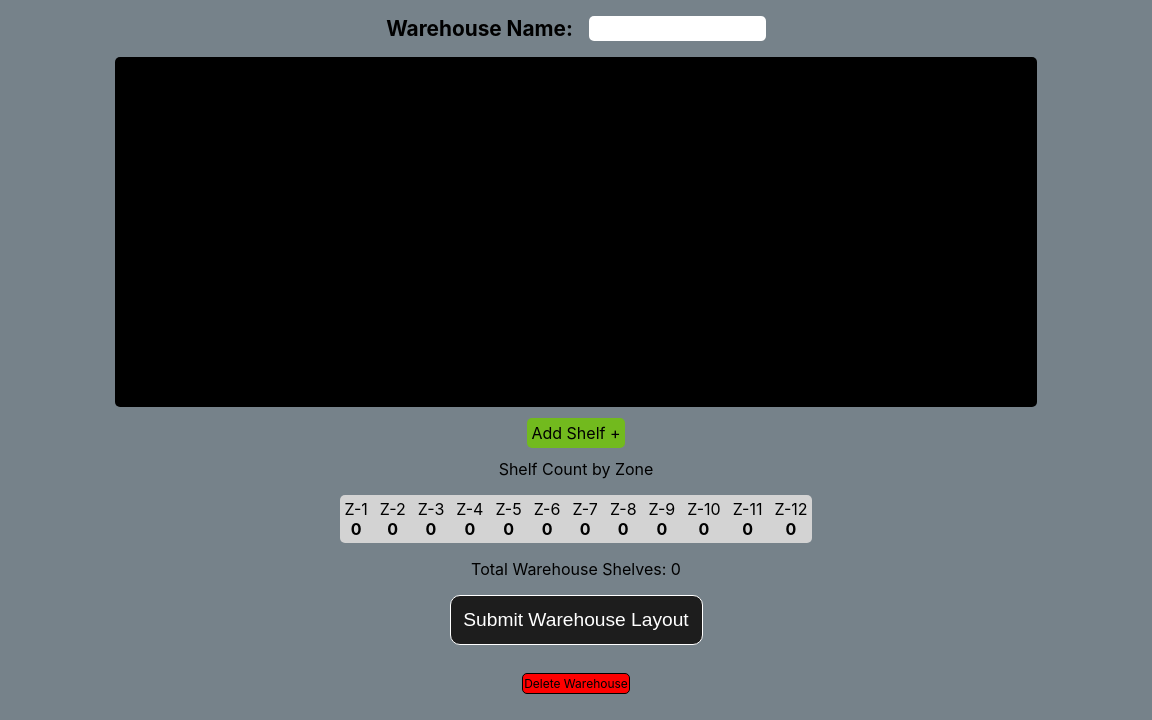
Test case: WarehouseForm › should delete a shelf when clicking on 'Delete' button
Click the text "Add Shelf +" at (576,433), box [527,418,625,448]
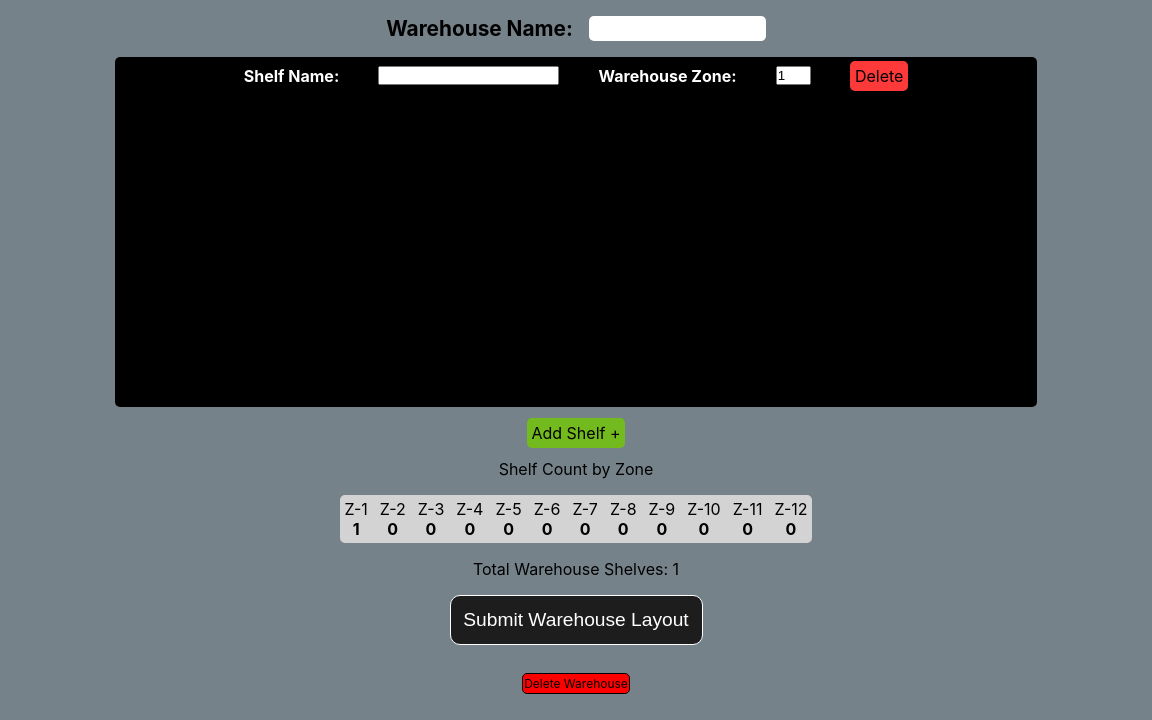
Click the text "Delete" at (879,76), box [850,61,908,91]
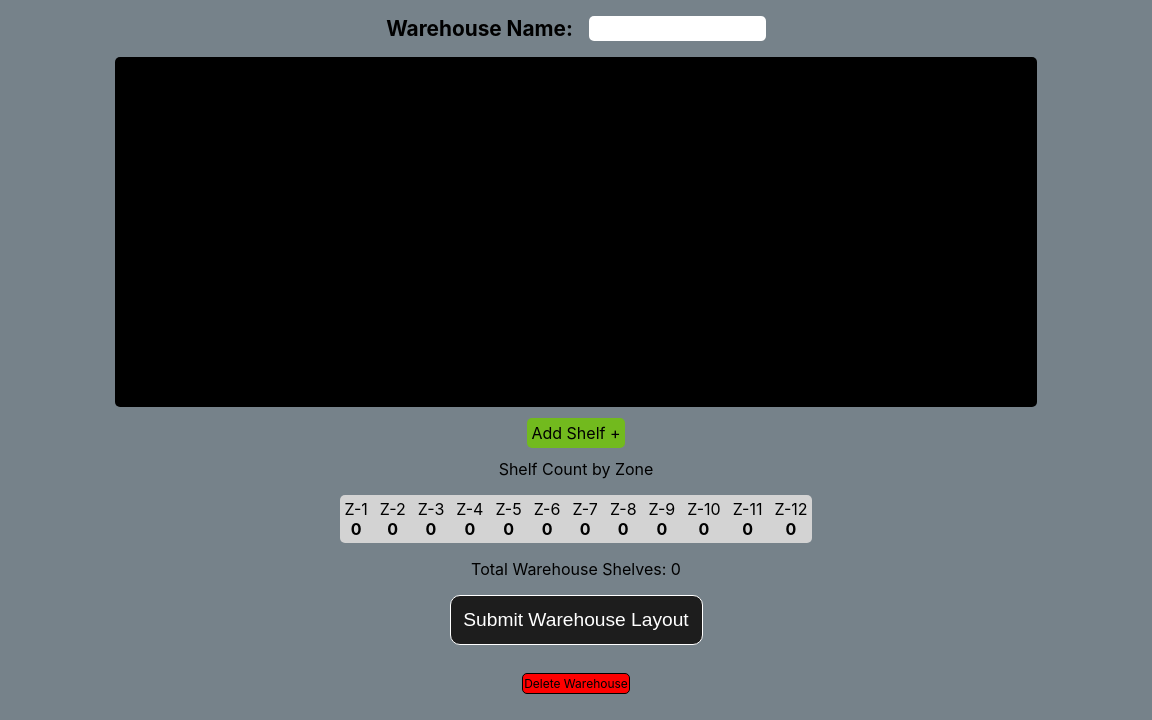
Check: the text "Shelf Name:" is gone
